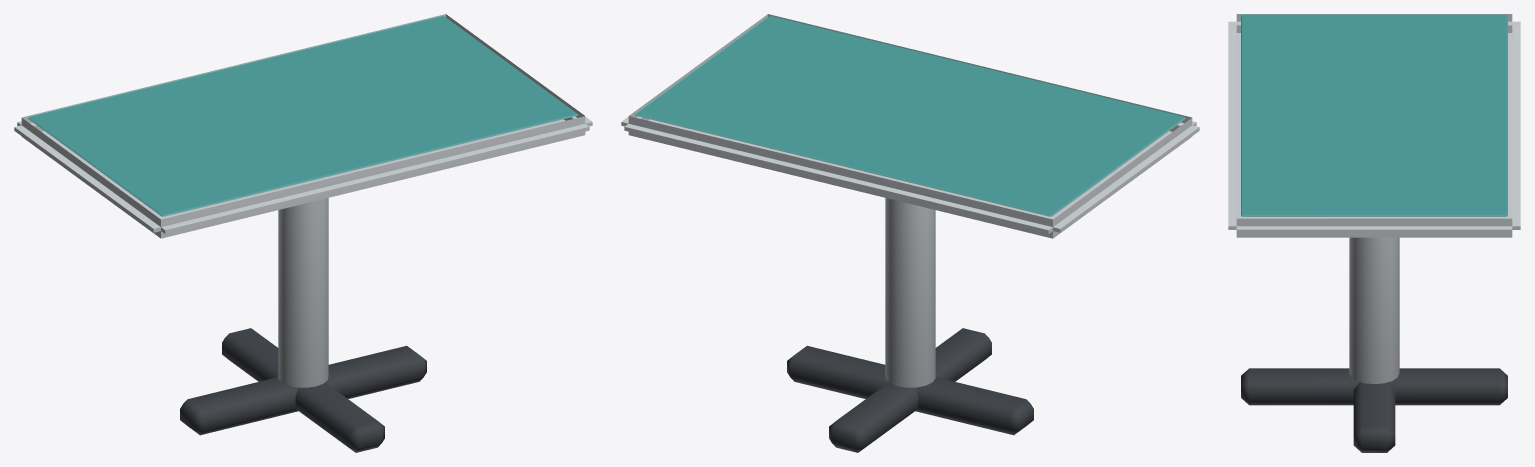
File: SM_BoothTable_12.glb
3 views of the same model, side by side, from view 1: azimuth 30°, elevation 25°; view 2: azimuth 150°, elevation 25°; view 3: azimuth 270°, elevation 25° (orthographic).
Visible parts, largest first — view 1: SM_BoothTable_12; view 2: SM_BoothTable_12; view 3: SM_BoothTable_12.
Part boxes in pixels (x1,y1,x2,y2): SM_BoothTable_12: [14, 14, 592, 452]; SM_BoothTable_12: [621, 14, 1199, 452]; SM_BoothTable_12: [1228, 14, 1520, 452].
Bounding box in the file's own units: 1.2 × 0.754 × 0.7.
Materials: 1 (1 with a texture image).
